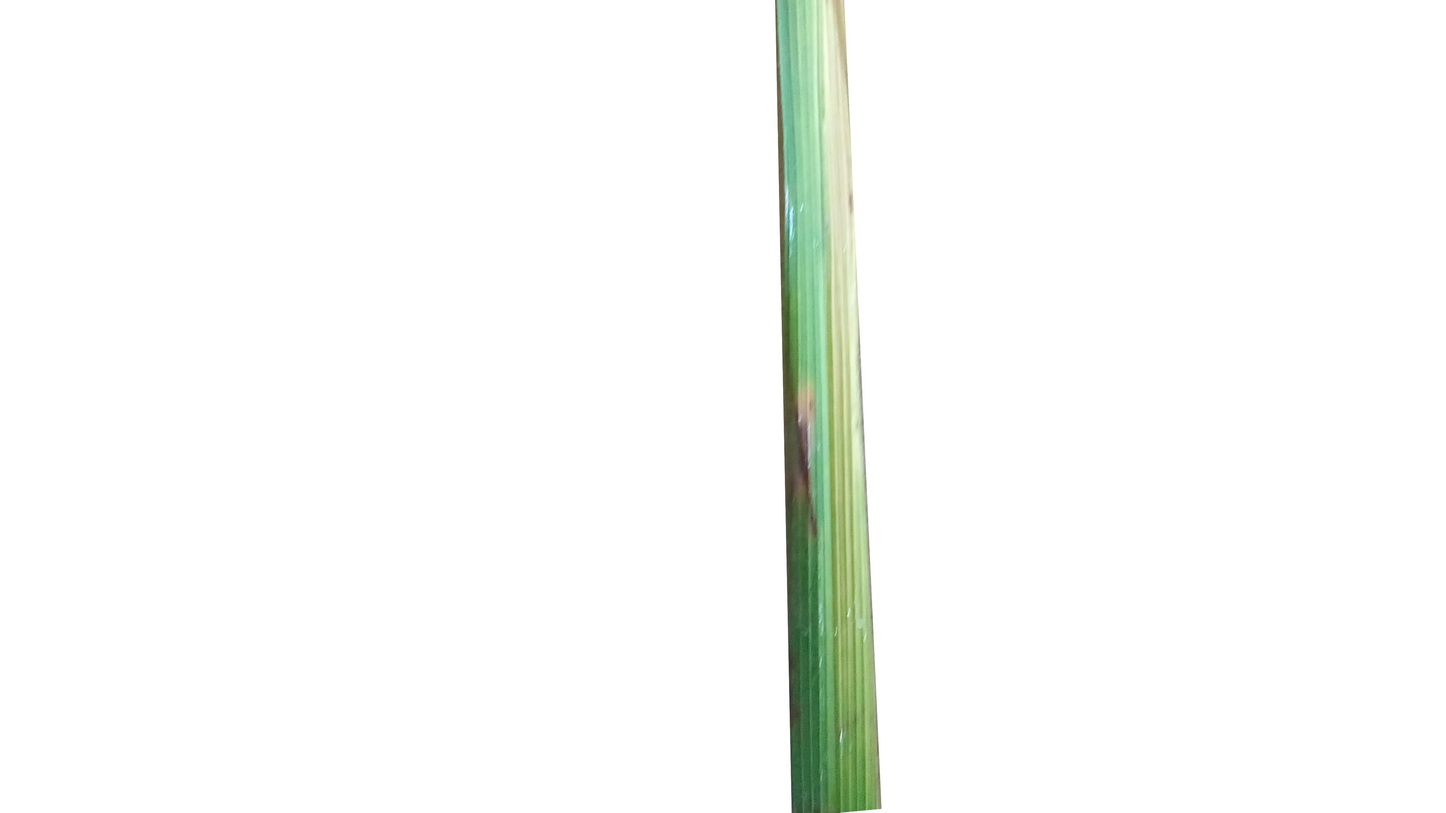Rice blast: (784, 363, 832, 556)
